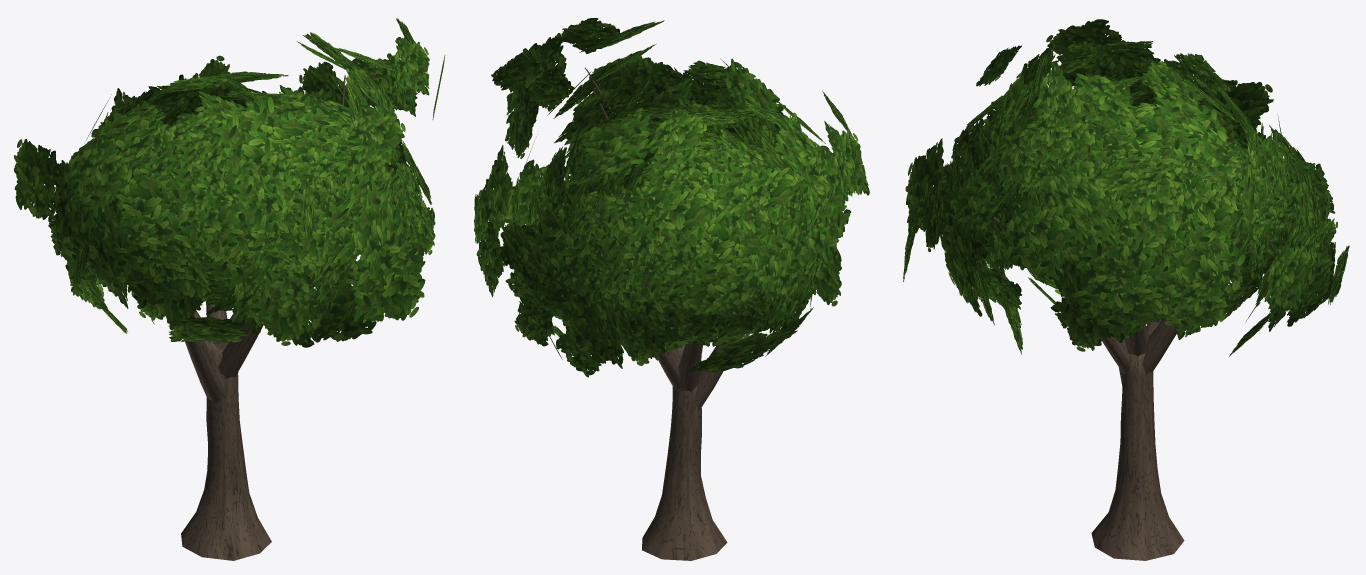
Rendered from tree_young.glb.
The picture shows the model from 3 angles, left to right: view 1: azimuth 30°, elevation 25°; view 2: azimuth 150°, elevation 25°; view 3: azimuth 270°, elevation 25°; orthographic projection. The views are drawn at different scales.
Visible parts, largest first — view 1: tree_young; view 2: tree_young; view 3: tree_young.
Boxes of the visible parts, x1,y1,x2,y2 form: tree_young: (14,18,445,560); tree_young: (474,18,869,560); tree_young: (903,19,1349,560).
Bounding box in the file's own units: 5.09 × 6.77 × 5.34.
Materials: 2 (2 with a texture image).
